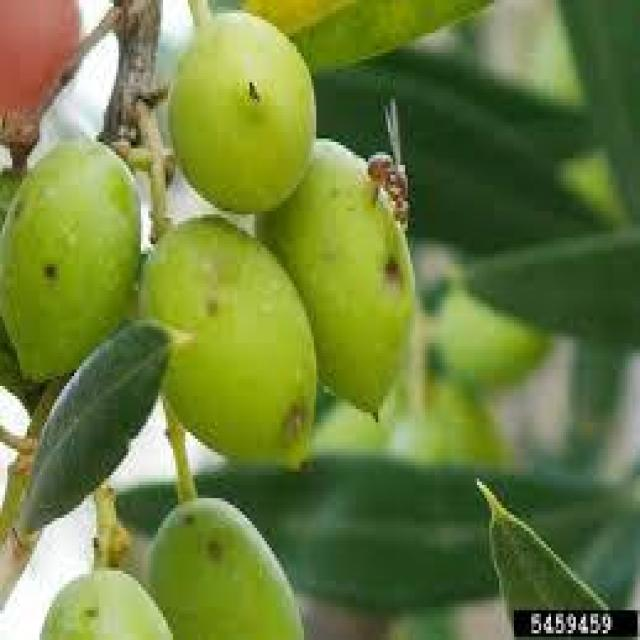Olive Fruit Fly: (277, 99, 420, 422), (141, 214, 314, 455), (0, 139, 138, 389), (173, 13, 314, 208), (148, 501, 301, 637), (40, 567, 171, 637)
